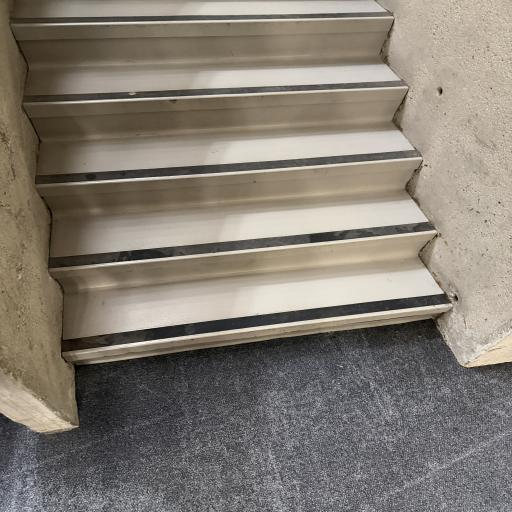Stairs: (11, 0, 451, 364)
